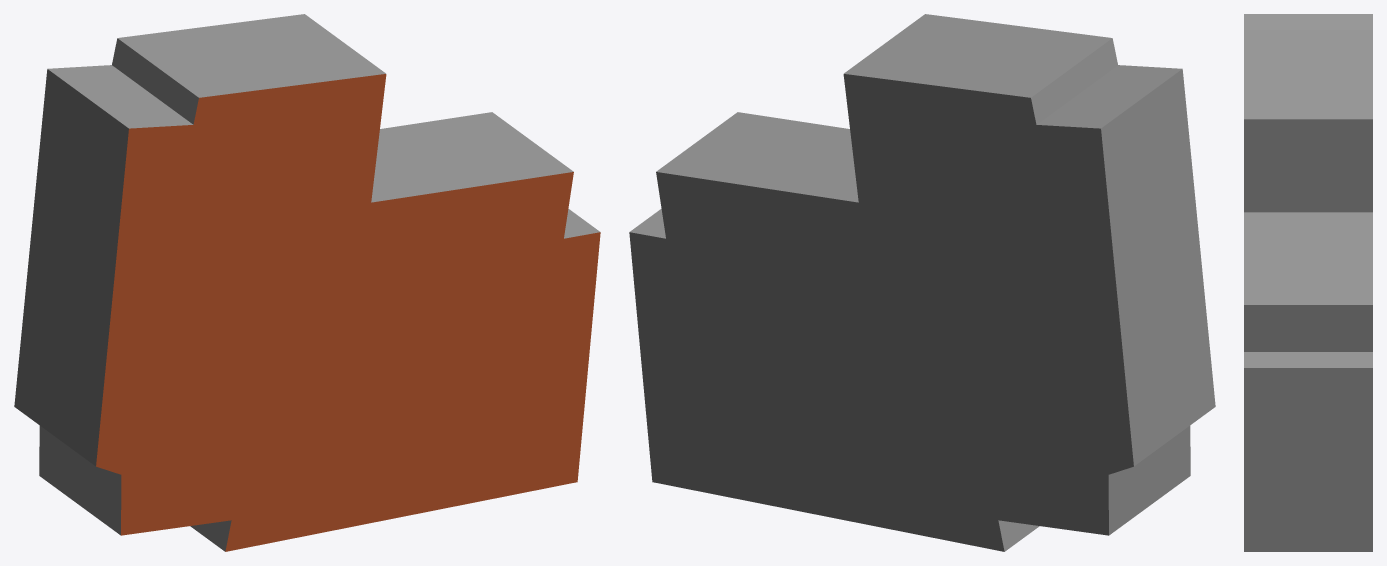
File: construction_2302_assumed_A_Casa_h6m.obj
3 views of the same model, side by side, from view 1: azimuth 30°, elevation 25°; view 2: azimuth 150°, elevation 25°; view 3: azimuth 270°, elevation 25° (orthographic). The views are drawn at different scales.
Parts seen in each view (by area): view 1: construction_2302_assumed_A_Casa; view 2: construction_2302_assumed_A_Casa; view 3: construction_2302_assumed_A_Casa.
Boxes of the visible parts, x1,y1,x2,y2 form: construction_2302_assumed_A_Casa: (14,14,600,551); construction_2302_assumed_A_Casa: (629,14,1215,551); construction_2302_assumed_A_Casa: (1244,14,1372,551).
Bounding box in the file's own units: 21.4 × 19.31 × 6.
